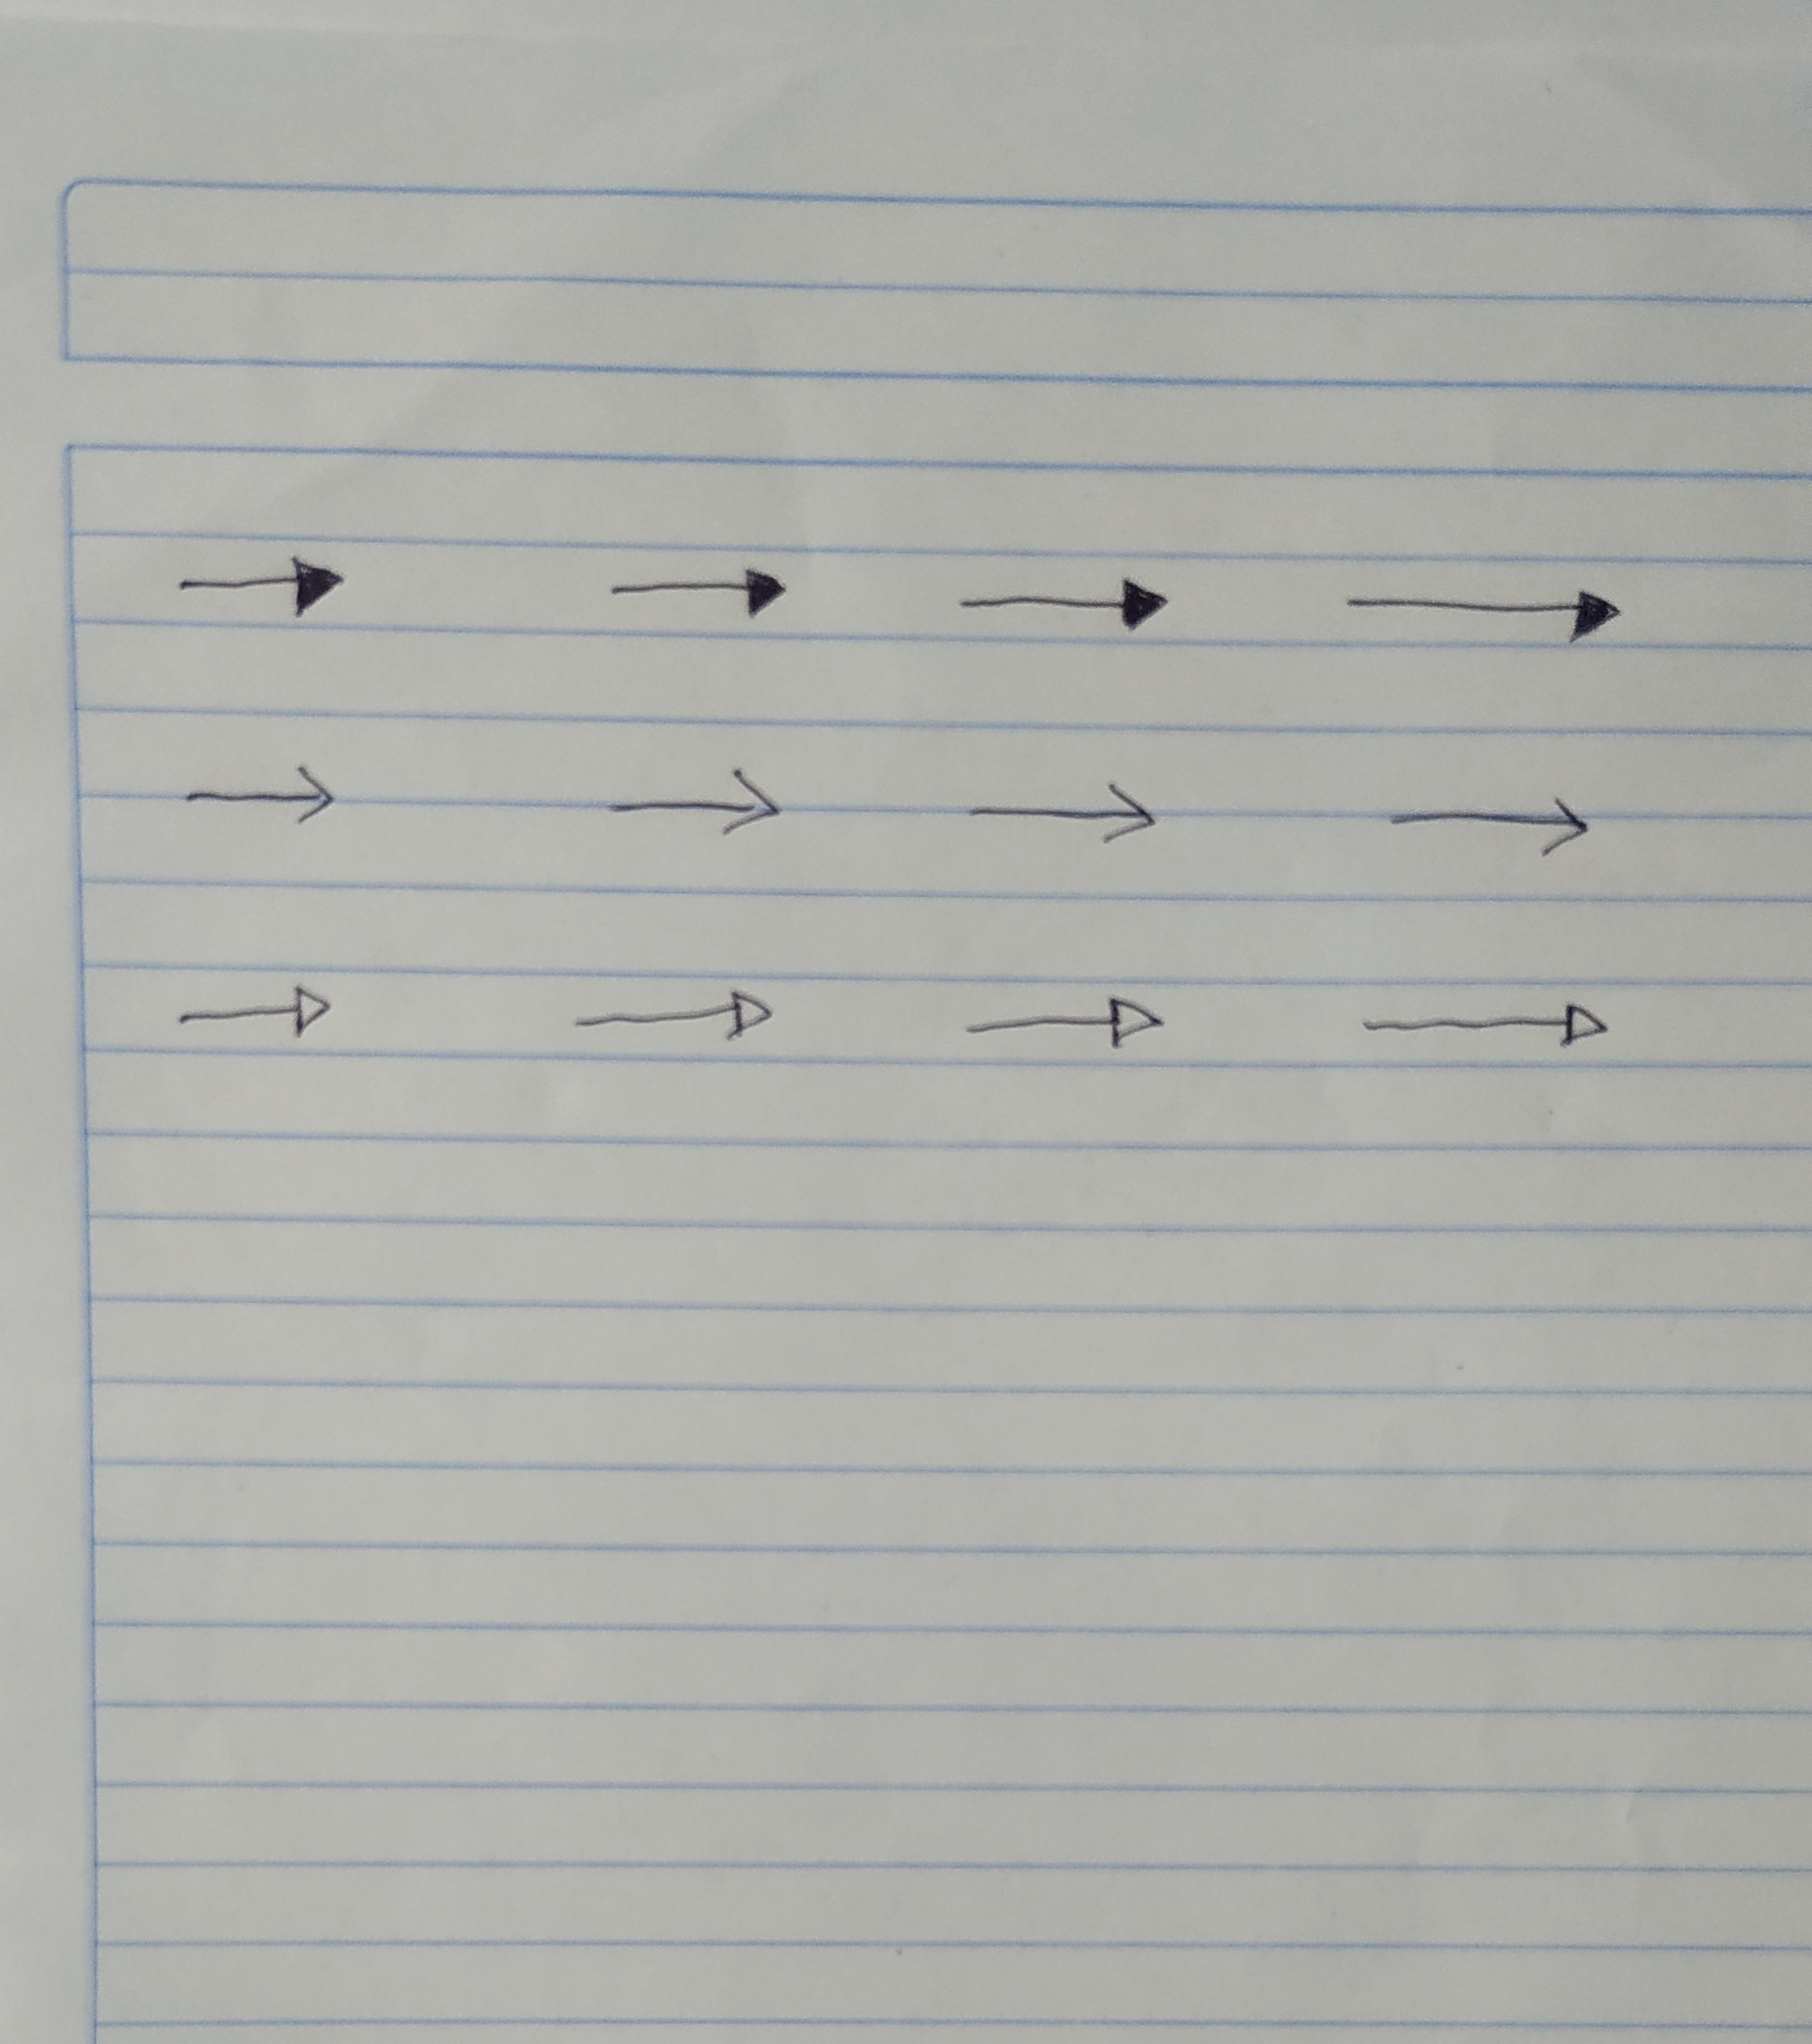arrow_line_right: (1345, 570, 1630, 659), (962, 773, 1167, 855), (1362, 988, 1613, 1054), (957, 568, 1177, 640), (962, 988, 1165, 1063), (1387, 794, 1597, 860), (602, 556, 799, 626), (171, 546, 353, 621), (572, 979, 778, 1042), (607, 766, 787, 838), (177, 759, 346, 834), (177, 983, 338, 1040)
